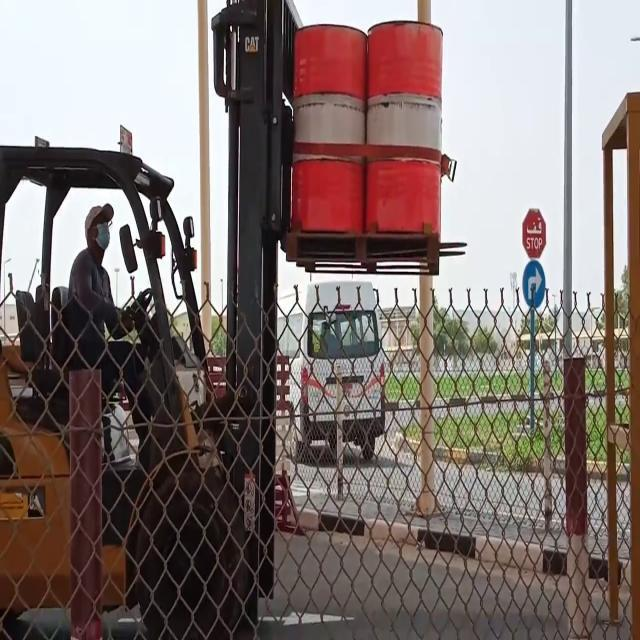forklift: (1, 148, 277, 640)
